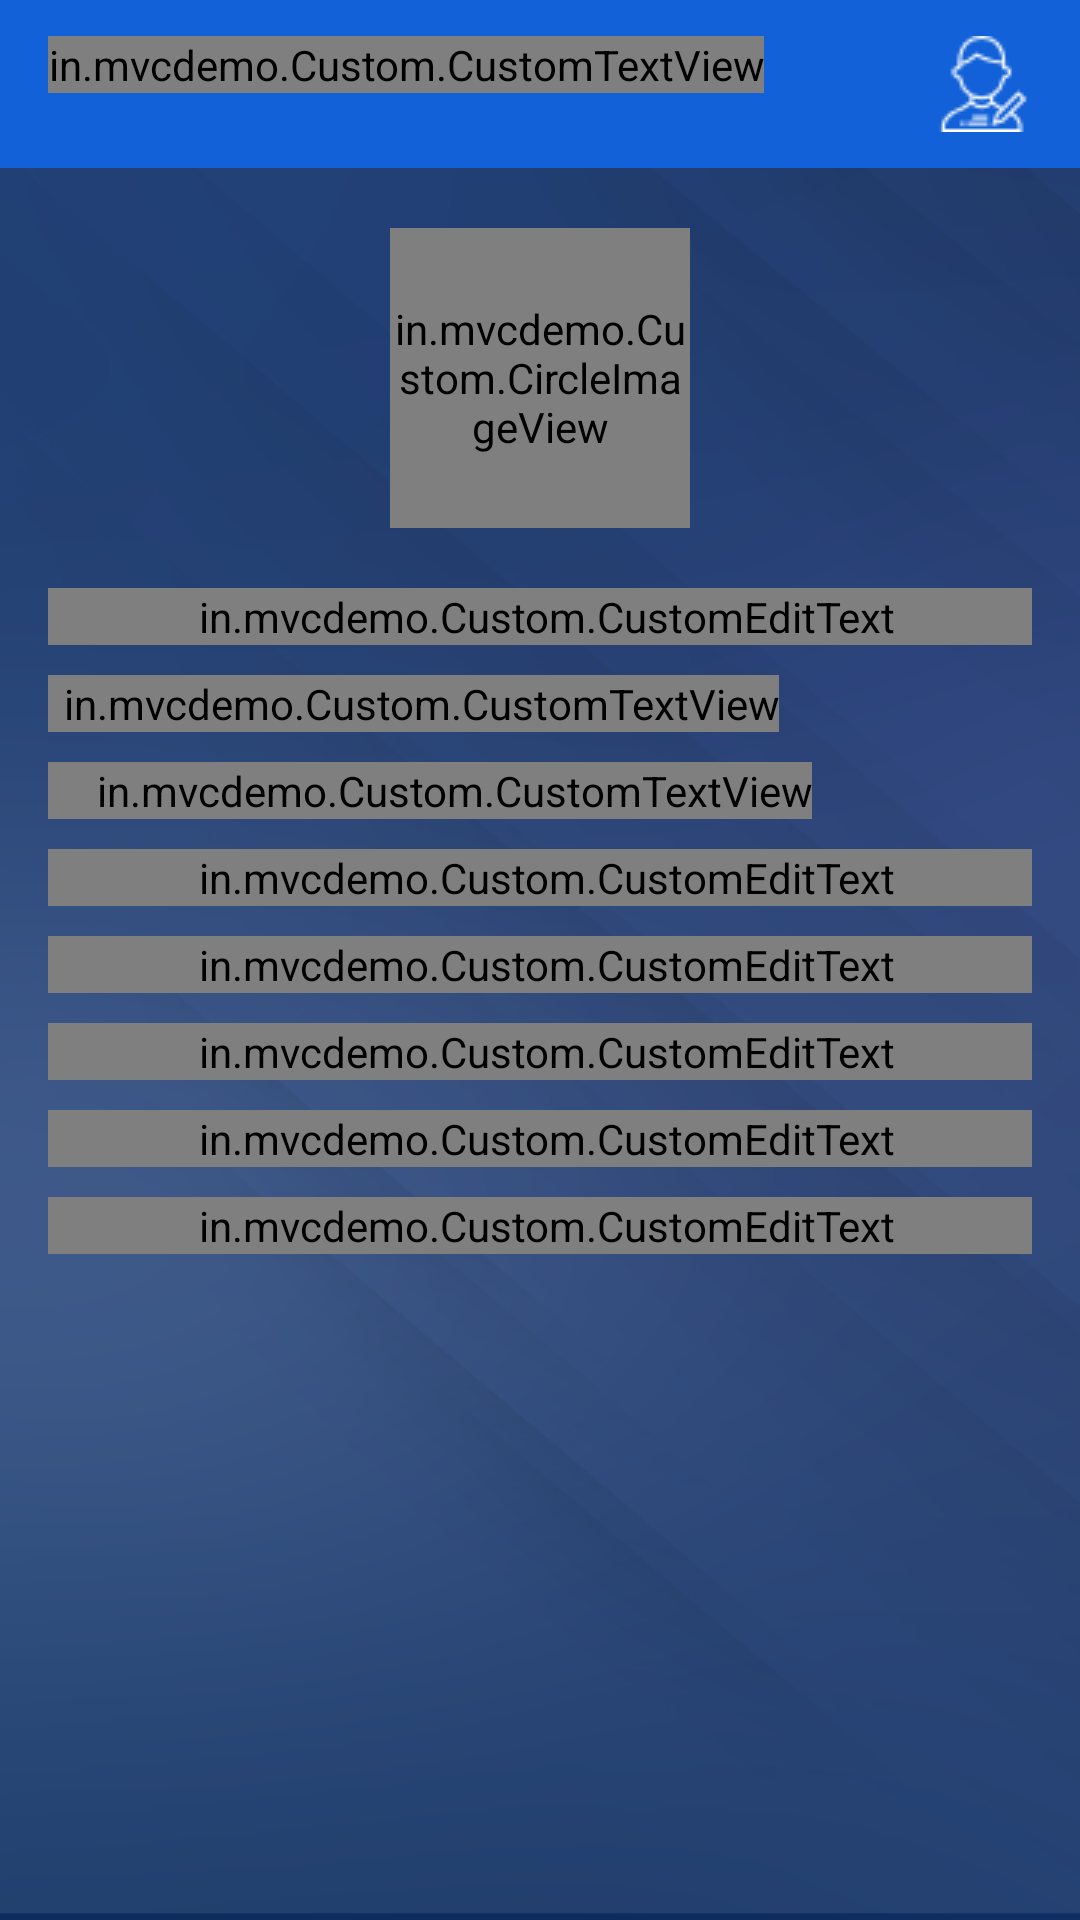

Icon click points for this 1080*1920 phone screenshot, format (x=x, y=y):
edit profile: (x=984, y=84)
